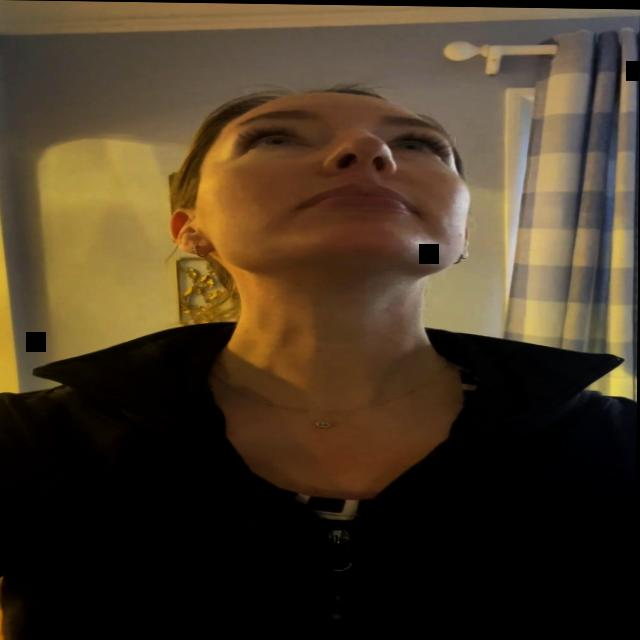NO-Mask: (174, 84, 477, 292)
